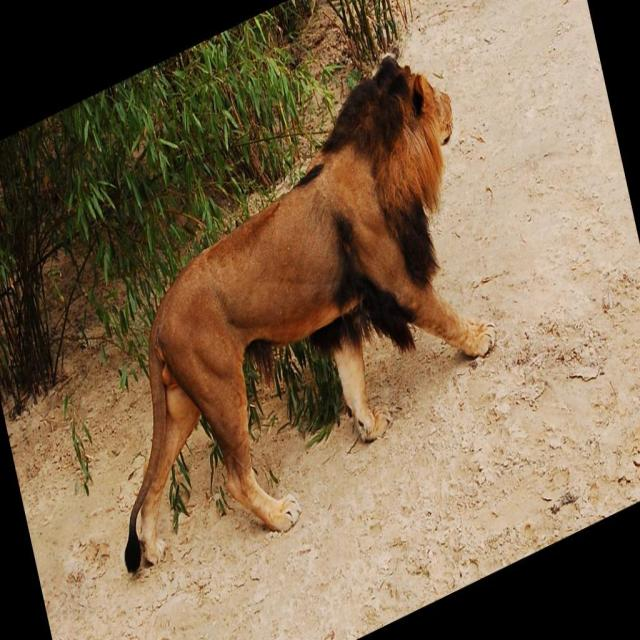Lion: (48, 27, 518, 606)
